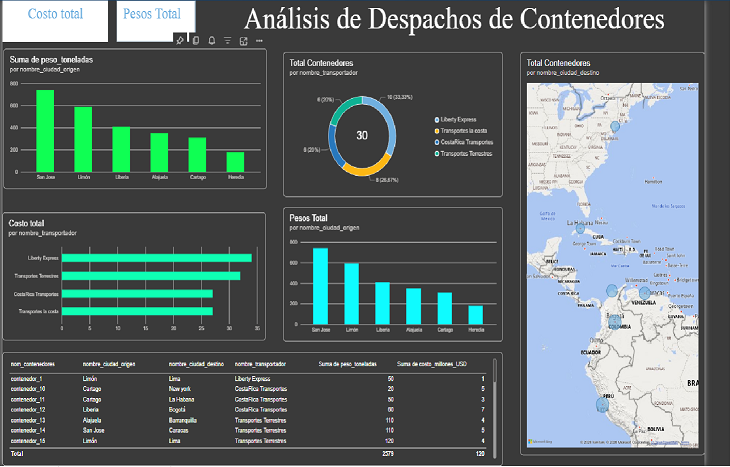

This screenshot's page, from the dashboard's own definition file:
{"tool":"powerbi","page":{"name":"Página 1","canvas":[1920,1080],"ordinal":0},"visuals":[{"type":"cardVisual","fields":{"Data":["CIUDAD_DESTINO_JSON.Costo total"]},"box":[0,0,288,96],"z":0},{"type":"cardVisual","fields":{"Data":["CIUDAD_DESTINO_JSON.Pesos Total"]},"box":[312,0,216,96],"z":1000},{"type":"clusteredColumnChart","fields":{"Category":["CIUDAD_ORIGEN_XML.nombre_ciudad_origen"],"Y":["Sum(DESPACHO_CONTENEDORES_EXCEL.peso_toneladas)"]},"box":[2.4,111.9,720.3,326.1],"z":2000},{"type":"barChart","fields":{"Category":["TRASNPORTADOR_PDF.nombre_transportador"],"Y":["CIUDAD_DESTINO_JSON.Costo total"]},"box":[0,491.6,720.3,296.9],"z":3000},{"type":"columnChart","fields":{"Category":["CIUDAD_ORIGEN_XML.nombre_ciudad_origen"],"Y":["CIUDAD_DESTINO_JSON.Pesos Total"]},"box":[768,480,600,312],"z":4000},{"type":"donutChart","fields":{"Category":["TRASNPORTADOR_PDF.nombre_transportador"],"Y":["CIUDAD_DESTINO_JSON.Total Contenedores"]},"box":[768,120,600,336],"z":5000},{"type":"map","fields":{"Category":["CIUDAD_DESTINO_JSON.nombre_ciudad_destino"],"Size":["CIUDAD_DESTINO_JSON.Total Contenedores"]},"box":[1416,120,504,936],"z":6000},{"type":"tableEx","fields":{"Values":["DESPACHO_CONTENEDORES_EXCEL.nom_contenedores","CIUDAD_ORIGEN_XML.nombre_ciudad_origen","CIUDAD_DESTINO_JSON.nombre_ciudad_destino","TRASNPORTADOR_PDF.nombre_transportador","Sum(DESPACHO_CONTENEDORES_EXCEL.peso_toneladas)","Sum(DESPACHO_CONTENEDORES_EXCEL.costo_millones_USD)"]},"box":[0,816,1368,264],"z":7000},{"type":"textbox","box":[576,0,1320,96],"z":7001}]}

Visuals, with their boxes on the page's 1920x1080 design canvas (x1, y1, x2, y2). These are canvas units, not pixel positions in the 730x467 screenshot, which may show the page scaled, cropped or inside an application window:
cardVisual - CIUDAD_DESTINO_JSON.Costo total: Rect(0, 0, 288, 96)
cardVisual - CIUDAD_DESTINO_JSON.Pesos Total: Rect(312, 0, 528, 96)
clusteredColumnChart - CIUDAD_ORIGEN_XML.nombre_ciudad_origen x Sum(DESPACHO_CONTENEDORES_EXCEL.peso_toneladas): Rect(2, 112, 723, 438)
barChart - TRASNPORTADOR_PDF.nombre_transportador x CIUDAD_DESTINO_JSON.Costo total: Rect(0, 492, 720, 788)
columnChart - CIUDAD_ORIGEN_XML.nombre_ciudad_origen x CIUDAD_DESTINO_JSON.Pesos Total: Rect(768, 480, 1368, 792)
donutChart - TRASNPORTADOR_PDF.nombre_transportador x CIUDAD_DESTINO_JSON.Total Contenedores: Rect(768, 120, 1368, 456)
map - CIUDAD_DESTINO_JSON.nombre_ciudad_destino x CIUDAD_DESTINO_JSON.Total Contenedores: Rect(1416, 120, 1920, 1056)
tableEx - DESPACHO_CONTENEDORES_EXCEL.nom_contenedores x CIUDAD_ORIGEN_XML.nombre_ciudad_origen: Rect(0, 816, 1368, 1080)
textbox: Rect(576, 0, 1896, 96)
